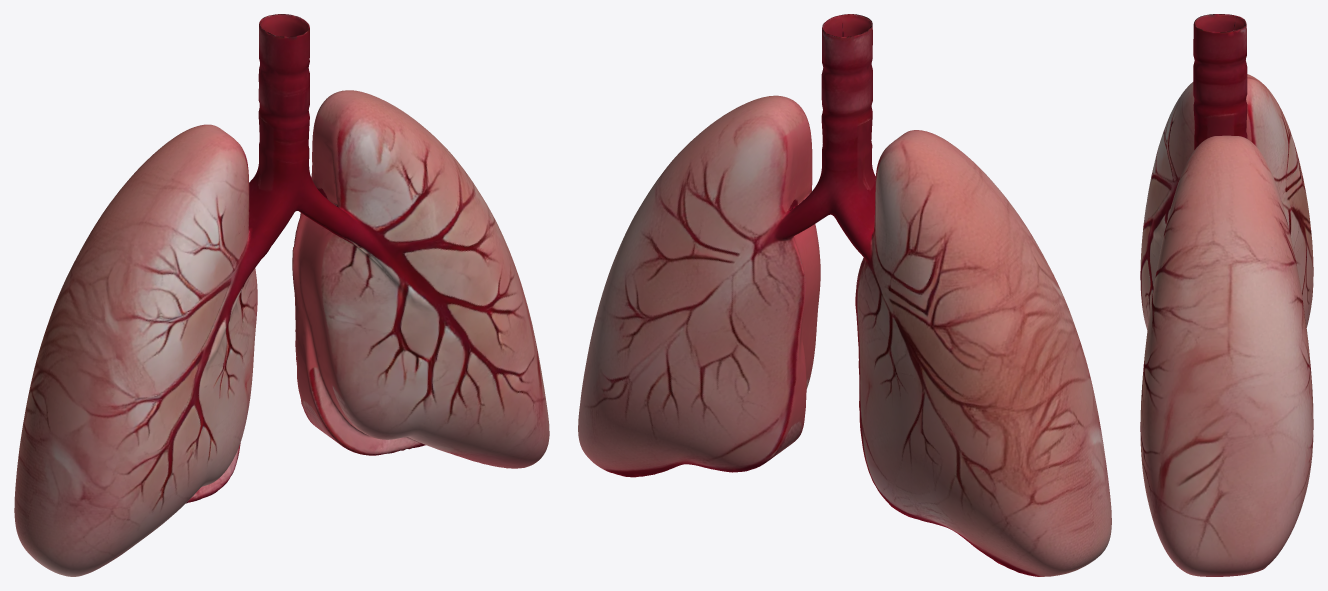
The model's file is lungs_inflated.glb.
3 views of the same model, side by side, from view 1: azimuth 30°, elevation 25°; view 2: azimuth 150°, elevation 25°; view 3: azimuth 270°, elevation 25° (orthographic). The views are drawn at different scales.
Visible parts, largest first — view 1: model; view 2: model; view 3: model.
Boxes of the visible parts, box(x1,y1,x2,y2) form: model: box(14, 14, 549, 576); model: box(578, 14, 1111, 576); model: box(1140, 14, 1313, 576).
Bounding box in the file's own units: 1.9 × 1.73 × 0.6064.
Materials: 1 (1 with a texture image).
